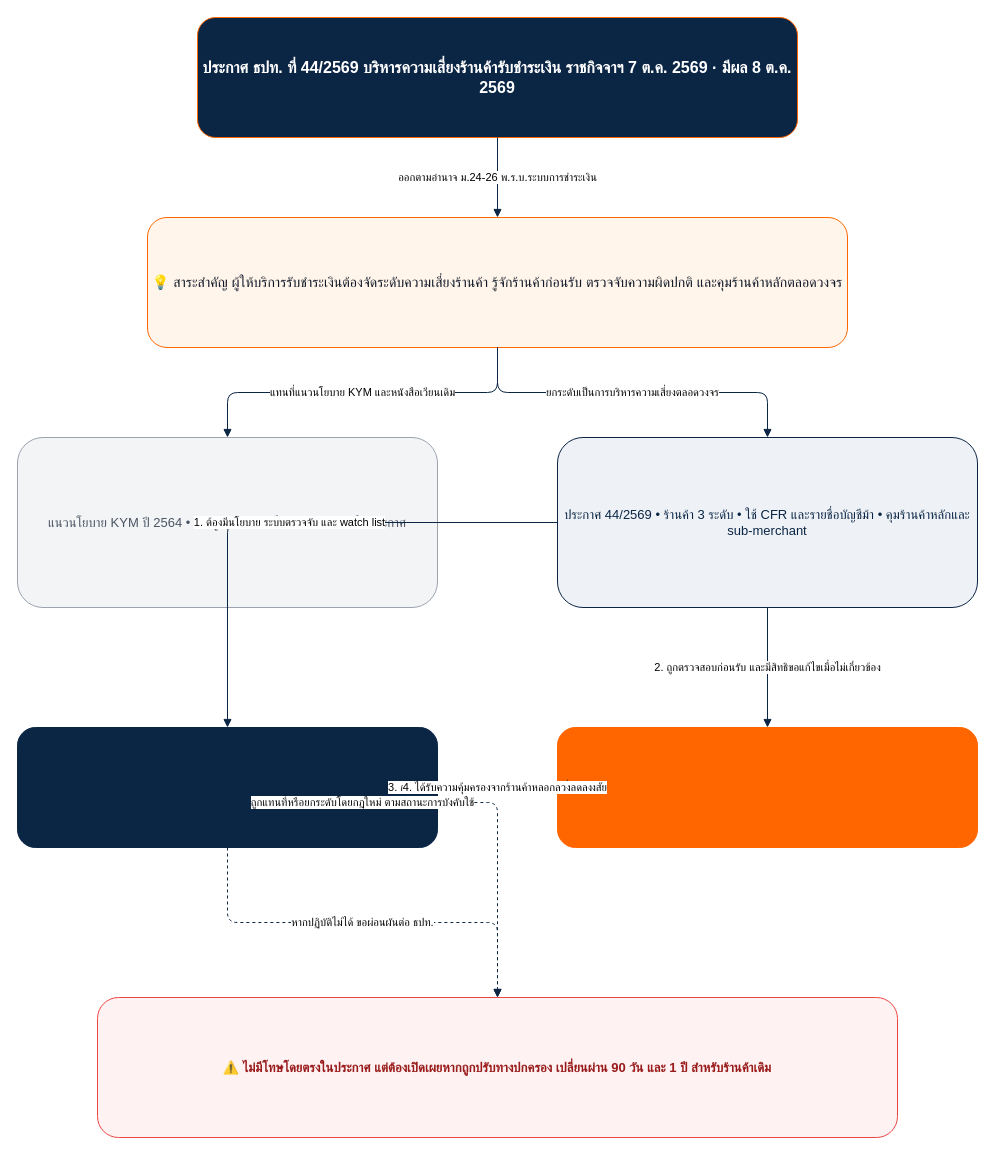
The diagram is 995 pixels wide and 1155 high, and some of its shapes have lost their labels. The box of each missing label's shape, as (x1, y1, x2, y2) in pixels:
🏢 ผู้ให้บริการรับชำระเงิน และ e-Money: (16, 726, 438, 848)
👤 ร้านค้า ผู้ซื้อ และประชาชน: (556, 726, 978, 848)
